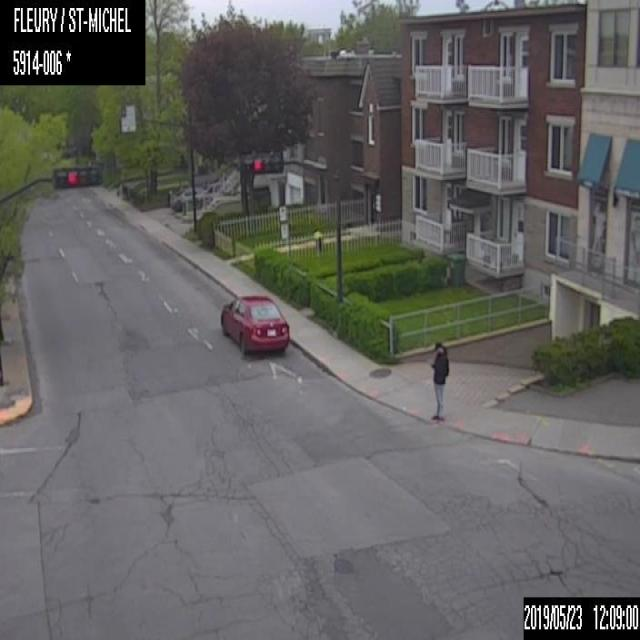pedestrian: (429, 342, 448, 422)
vehicle: (217, 292, 289, 355)
